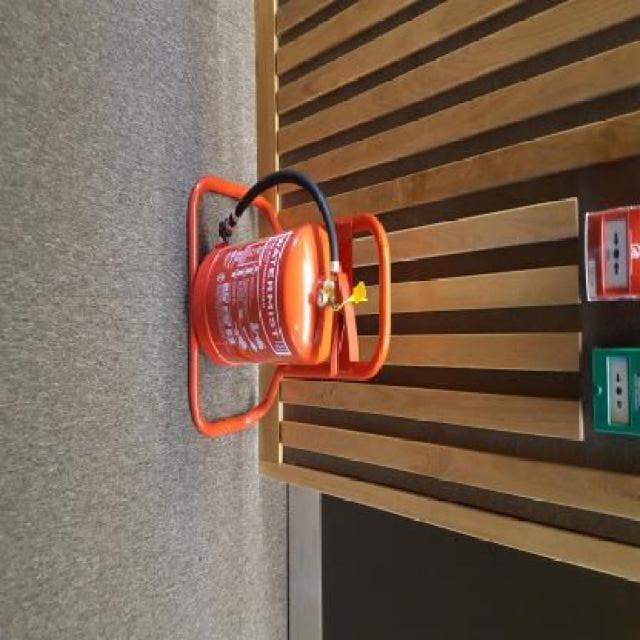fire extinguisher: (194, 166, 361, 380)
